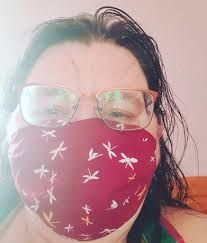with-mask: (18, 30, 160, 243)
